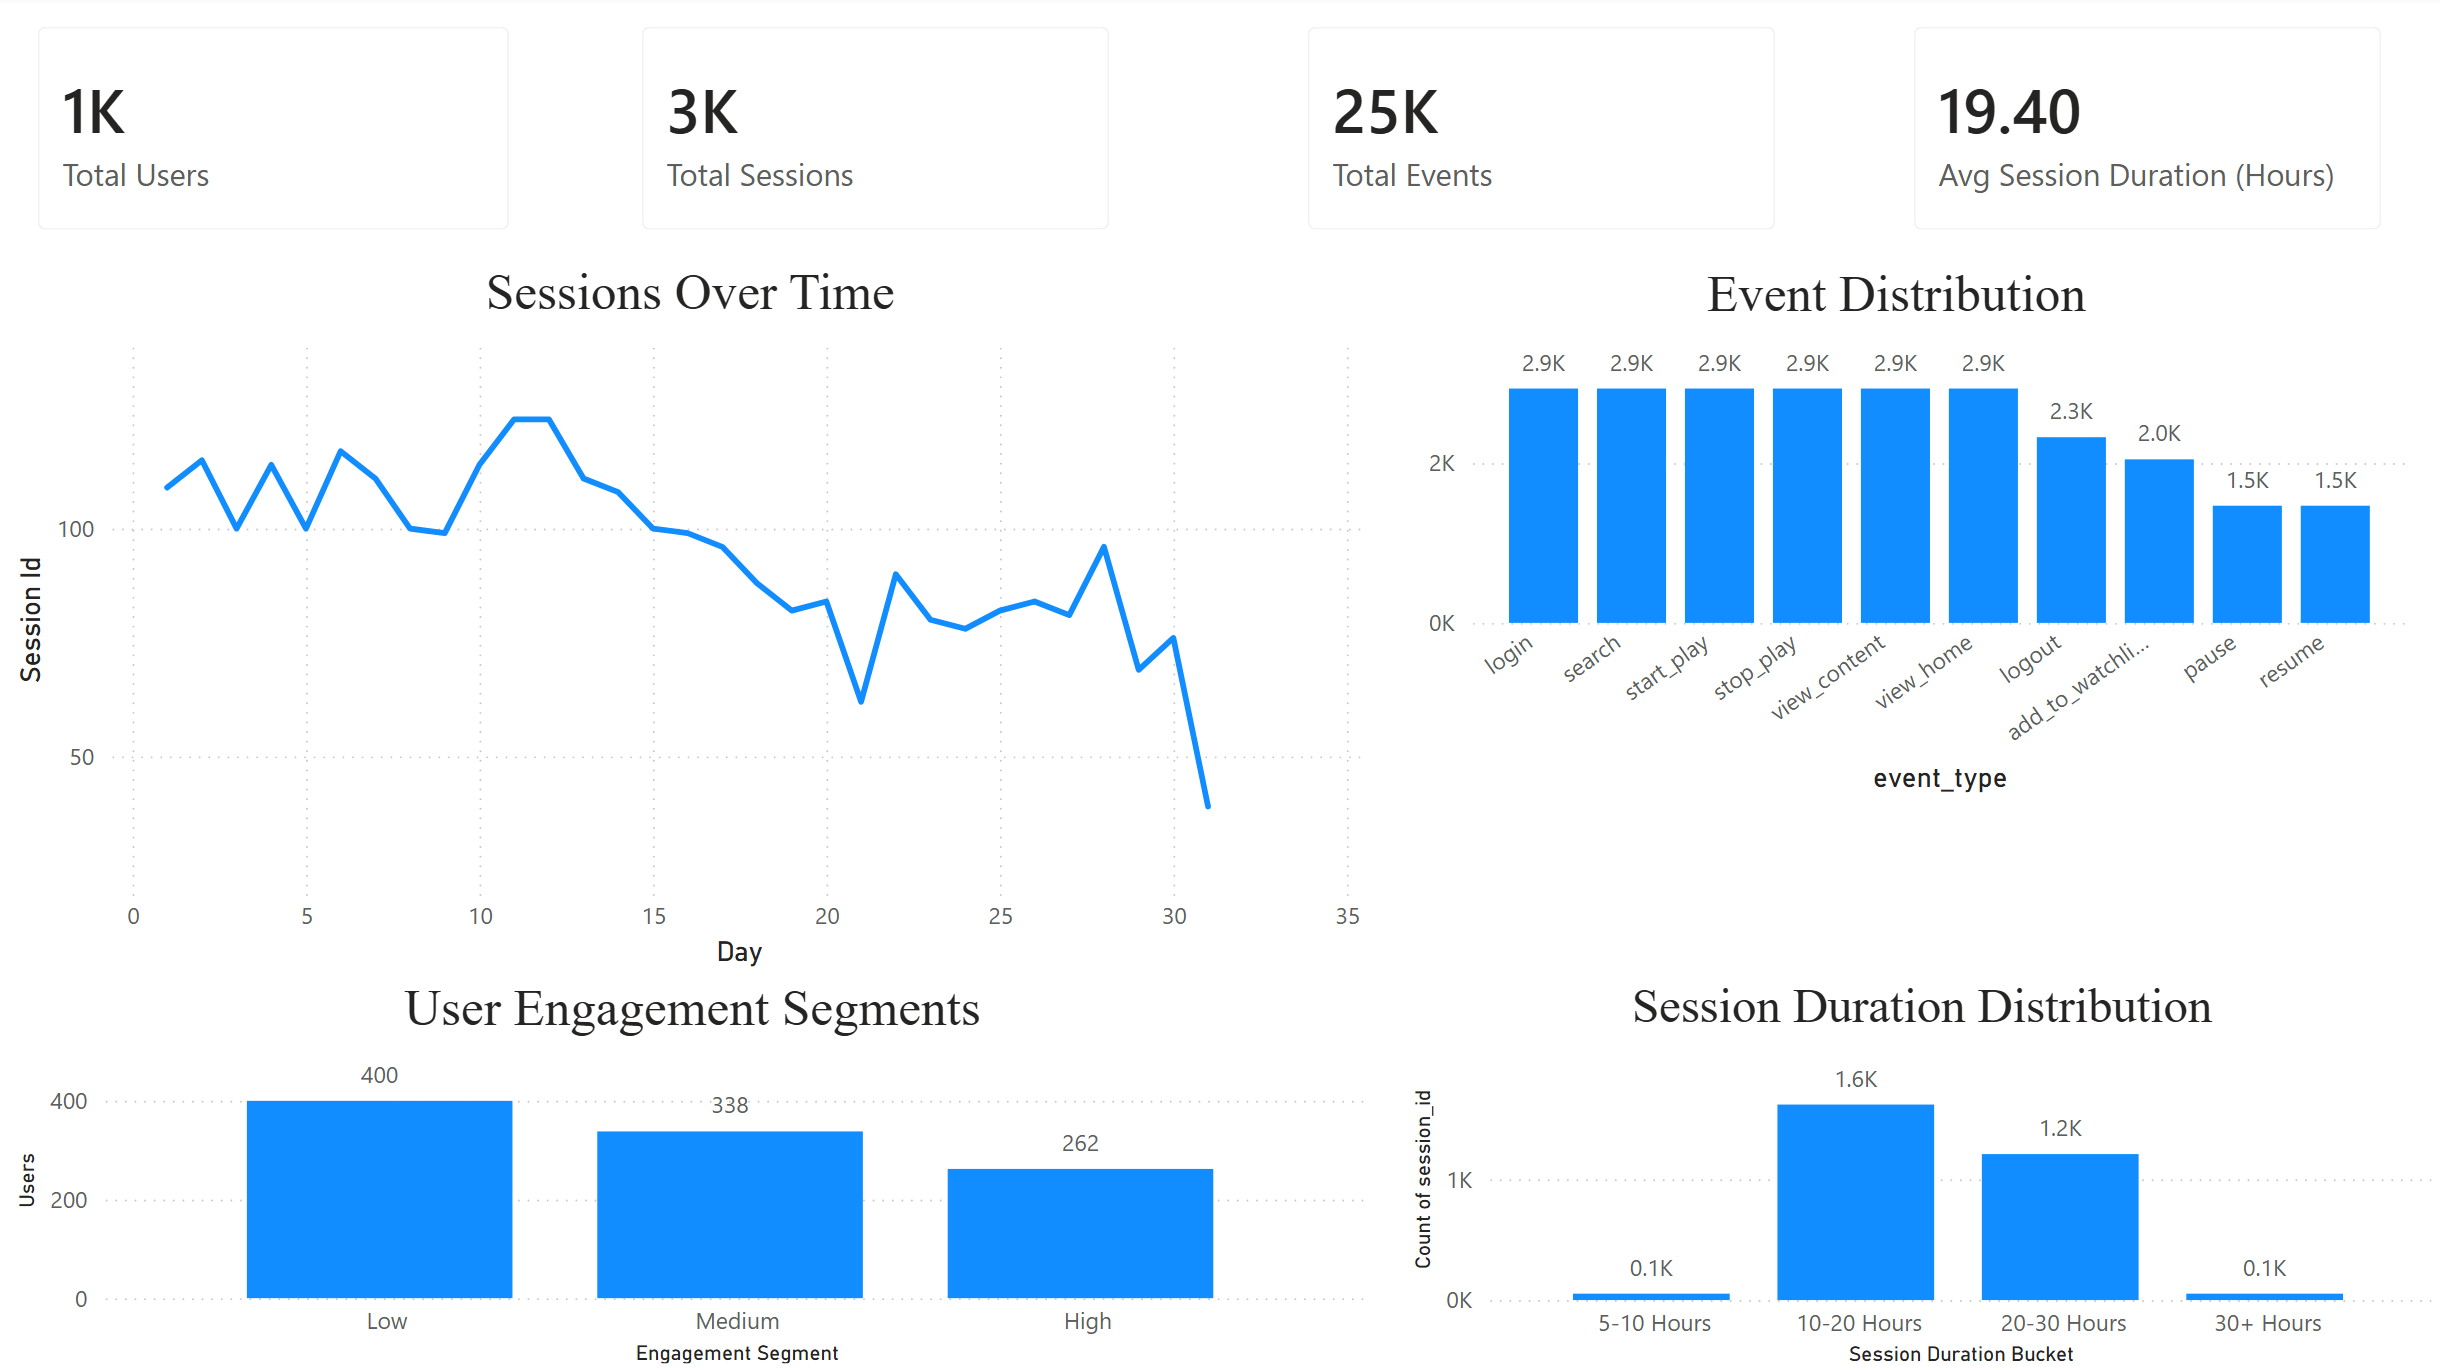

What the dashboard file says about the page in this screenshot:
{"tool":"powerbi","page":{"name":"Executive Overview","canvas":[1280,720],"ordinal":0},"visuals":[{"type":"cardVisual","fields":{"Data":["Measures (2).Total Users"]},"box":[9.6,0,280.4,140.2],"z":0},{"type":"cardVisual","fields":{"Data":["Measures (2).Total Sessions"]},"box":[324.2,0,278.7,140.6],"z":1000},{"type":"cardVisual","fields":{"Data":["Measures (2).Total Events"]},"box":[672.3,0,278.9,140.1],"z":2000},{"type":"cardVisual","fields":{"Data":["Measures (2).Avg Session Duration (Hours)"]},"box":[987.7,0,278.9,140.1],"z":3000},{"type":"lineChart","title":"Sessions Over Time","fields":{"Y":["Count(public fct_user_sessions.session_id)"],"Category":["public fct_user_sessions.session_start.Variation.Date Hierarchy.Year","public fct_user_sessions.session_start.Variation.Date Hierarchy.Quarter","public fct_user_sessions.session_start.Variation.Date Hierarchy.Month","public fct_user_sessions.session_start.Variation.Date Hierarchy.Day"]},"box":[9.7,140.1,714.9,372.7],"z":4000},{"type":"columnChart","title":"Event Distribution","fields":{"Category":["public stg_events.event_type"],"Y":["CountNonNull(public stg_events.event_type)"]},"box":[725.1,140.3,541.9,280.7],"z":5000},{"type":"clusteredColumnChart","title":"User Engagement Segments","fields":{"Category":["public fct_user_analytics.Engagement Segment"],"Y":["CountNonNull(public fct_user_analytics.user_id)"]},"box":[10,513,715,206],"z":6000},{"type":"clusteredColumnChart","title":"Session Duration Distribution","fields":{"Category":["public fct_user_sessions.Session Duration Bucket"],"Y":["CountNonNull(public fct_user_sessions.session_id)"]},"box":[738.5,513.6,541.5,207],"z":6001}]}

Visuals, with their boxes in screenshot pixels (x1, y1, x2, y2), scaled from the page's 1280x720 canvas onto the 2440x1370 screenshot:
cardVisual - Measures (2).Total Users: (18,0,553,267)
cardVisual - Measures (2).Total Sessions: (618,0,1149,268)
cardVisual - Measures (2).Total Events: (1282,0,1813,267)
cardVisual - Measures (2).Avg Session Duration (Hours): (1883,0,2414,267)
"Sessions Over Time" lineChart: (18,267,1381,976)
"Event Distribution" columnChart: (1382,267,2415,801)
"User Engagement Segments" clusteredColumnChart: (19,976,1382,1368)
"Session Duration Distribution" clusteredColumnChart: (1408,977,2439,1369)
